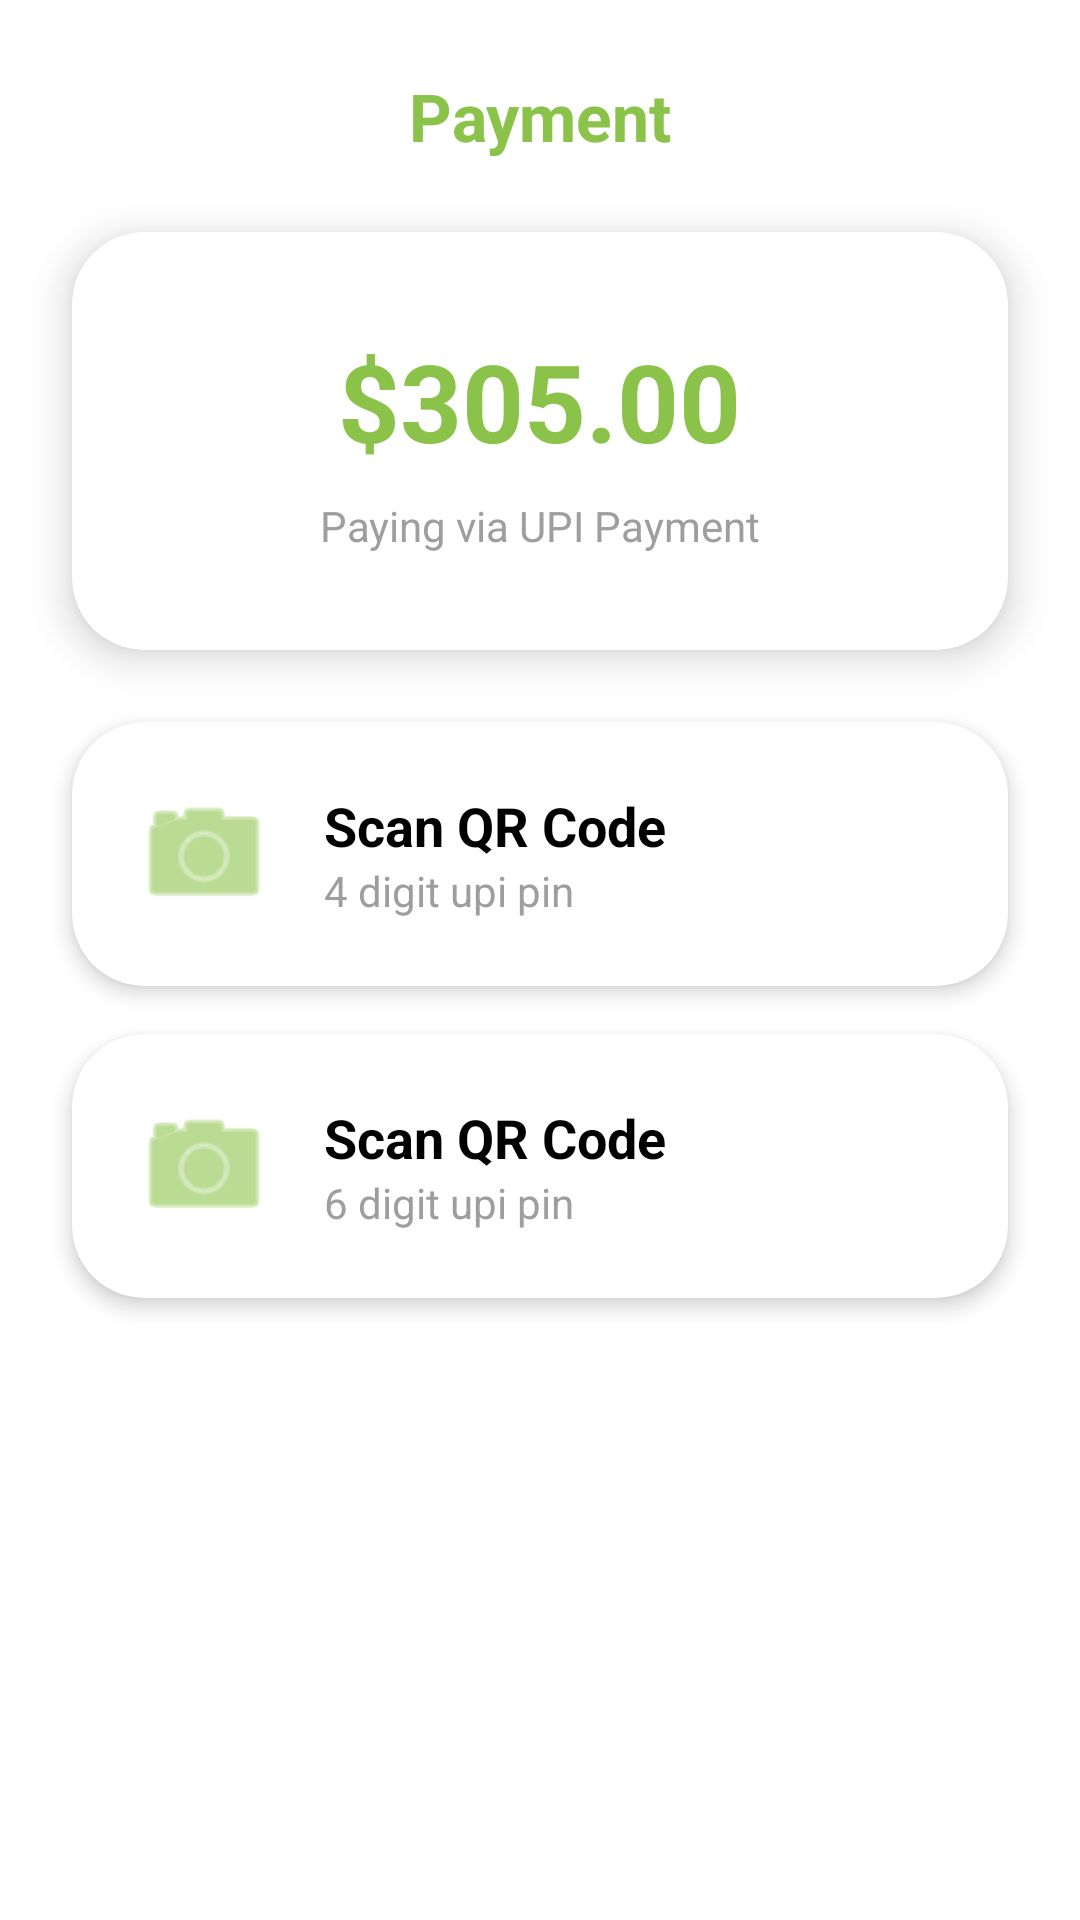

Point at icon controls on the screen. Image size 1080px x 1920px, points as [x,y].
camera: [203,852], [203,1164]
